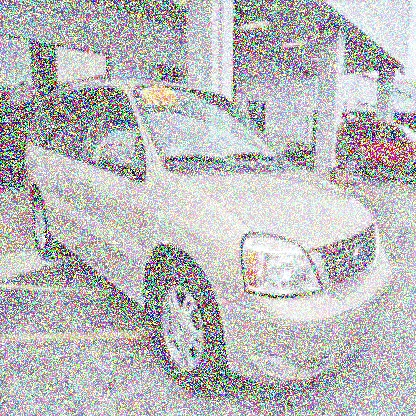Vehicle: (25, 80, 396, 394)
